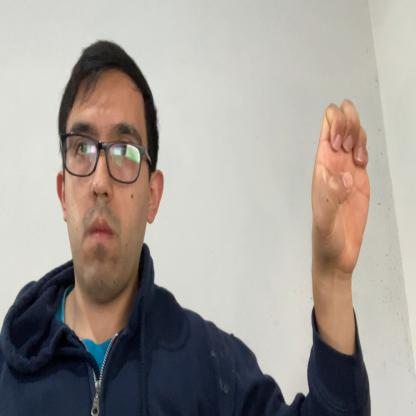E: (310, 96, 372, 270)
